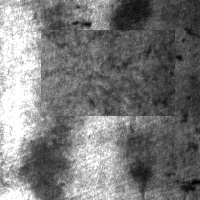crazing: (41, 30, 175, 116)
patches: (19, 103, 71, 200), (37, 1, 80, 60), (119, 130, 156, 195), (107, 1, 152, 52)
